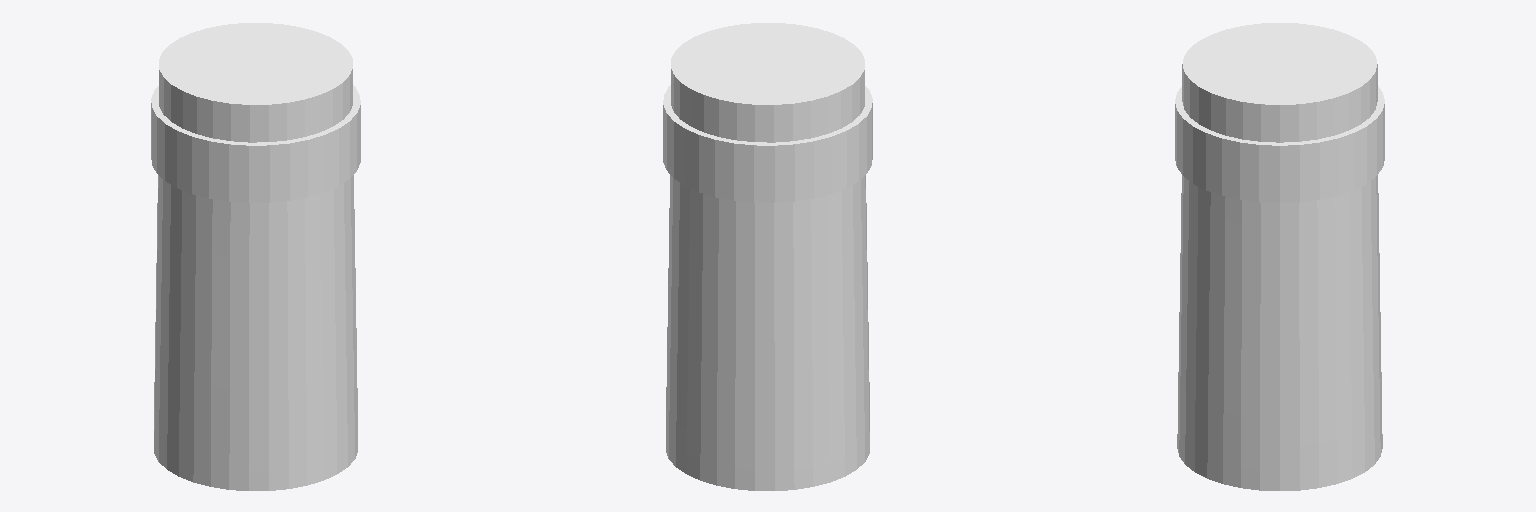
The model's file is wineBottleShutter.obj.
3 renders of one model, left to right at view 1: azimuth 30°, elevation 25°; view 2: azimuth 150°, elevation 25°; view 3: azimuth 270°, elevation 25°, orthographic.
Visible parts, largest first — view 1: tap_Mesh.0; view 2: tap_Mesh.0; view 3: tap_Mesh.0.
Part boxes in pixels (bbox=[...]): tap_Mesh.0: bbox=[151, 23, 360, 490]; tap_Mesh.0: bbox=[663, 23, 872, 490]; tap_Mesh.0: bbox=[1175, 23, 1384, 490].
Bounding box in the file's own units: 0.1596 × 0.322 × 0.1596.